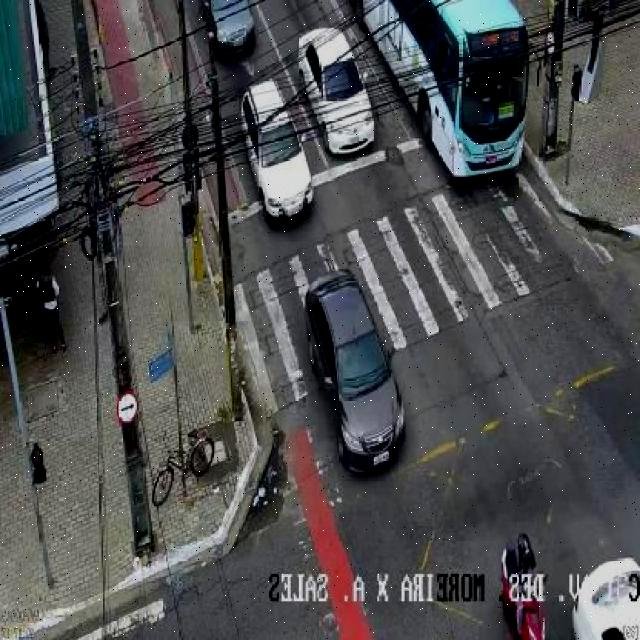bicycle: (153, 426, 215, 508)
bus: (354, 0, 542, 176)
car: (304, 264, 406, 476), (240, 74, 314, 226), (298, 24, 374, 156), (198, 1, 257, 56)
motorbike: (504, 532, 547, 636), (42, 263, 66, 354)
